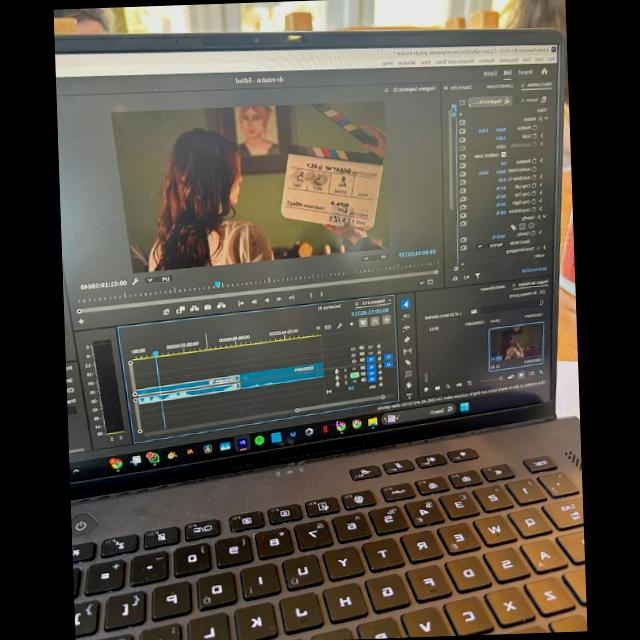laptop: (54, 25, 580, 640)
